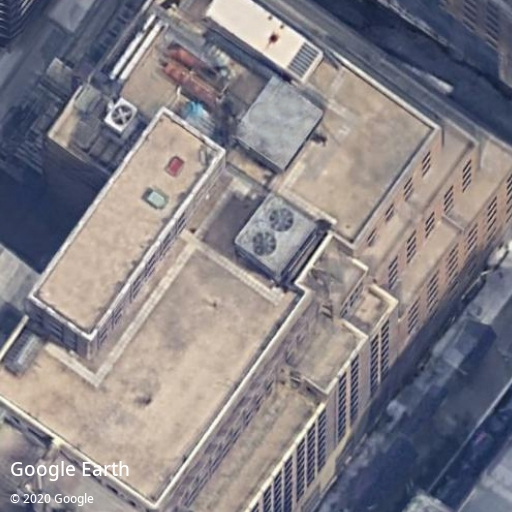Vent: (269, 207, 295, 232), (252, 232, 277, 256), (112, 104, 133, 126)
